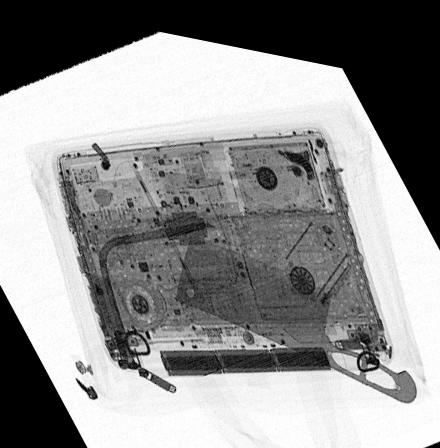Knife: (172, 225, 417, 388)
